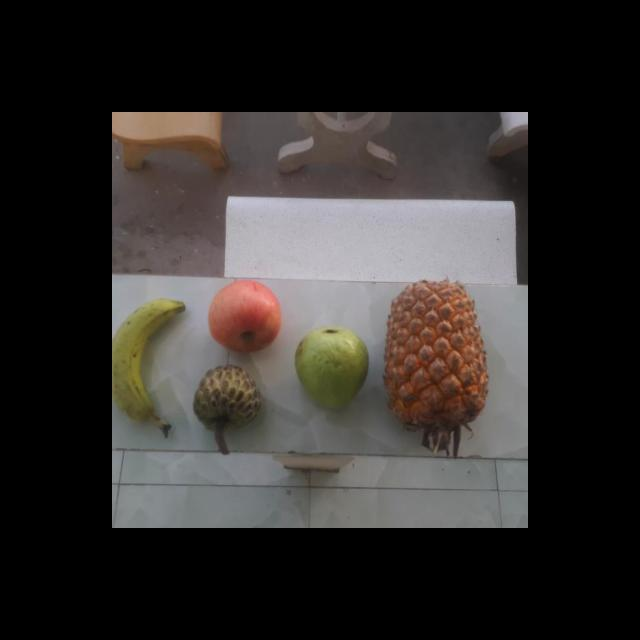Sakya fruit: (192, 366, 264, 436)
apple: (207, 280, 284, 355)
banana: (112, 298, 191, 432)
guava: (296, 326, 372, 410)
pineapple: (385, 282, 490, 437)
